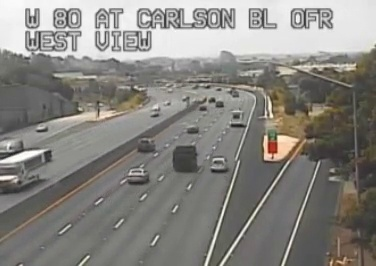bus: (229, 110, 244, 126)
car: (127, 168, 149, 184), (137, 138, 154, 152), (210, 157, 227, 171)
small-truck: (173, 146, 197, 172)
